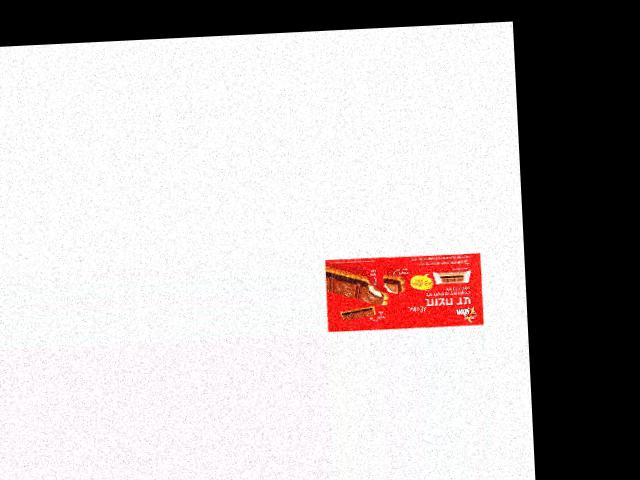chocolate: (324, 251, 486, 333)
